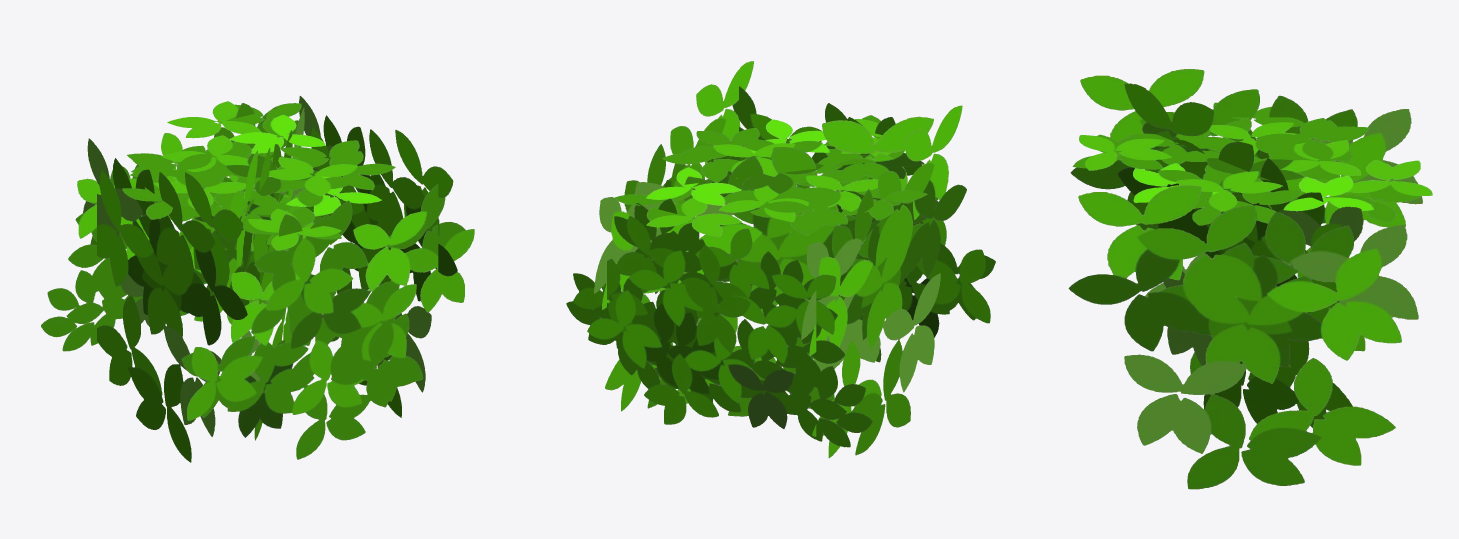
The model's file is SmallTree3.fbx.
The picture shows the model from 3 angles, left to right: view 1: azimuth 30°, elevation 25°; view 2: azimuth 150°, elevation 25°; view 3: azimuth 270°, elevation 25°; orthographic projection. The views are drawn at different scales.
Visible parts, largest first — view 1: SmallTree3; view 2: SmallTree3; view 3: SmallTree3.
Boxes of the visible parts, x1,y1,x2,y2 form: SmallTree3: [41, 96, 474, 462]; SmallTree3: [566, 61, 995, 458]; SmallTree3: [1068, 69, 1432, 489].
Size of the model in its own units: 113 by 113 by 113.
